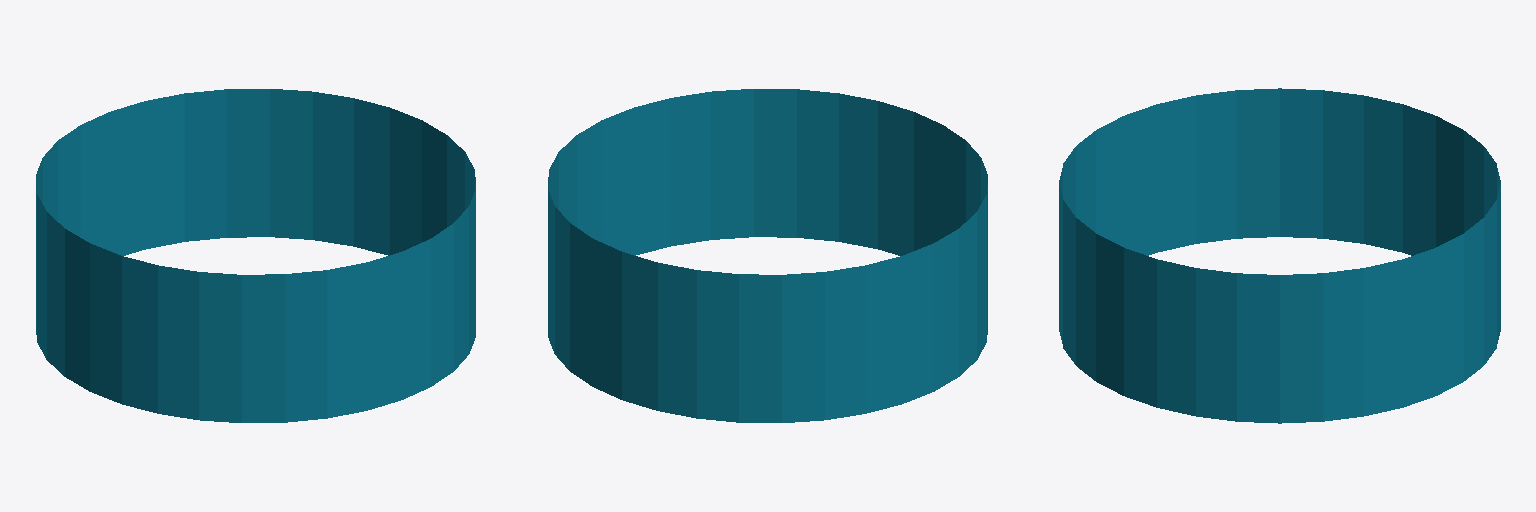
File: Ring_Export_OBJ.obj
The picture shows the model from 3 angles: view 1: azimuth 30°, elevation 25°; view 2: azimuth 150°, elevation 25°; view 3: azimuth 270°, elevation 25°; orthographic projection.
Parts seen in each view (by area): view 1: GUI_Ring; view 2: GUI_Ring; view 3: GUI_Ring.
Boxes of the visible parts, box(x1,y1,x2,y2) form: GUI_Ring: box(36, 89, 475, 422); GUI_Ring: box(548, 89, 987, 422); GUI_Ring: box(1059, 88, 1500, 423).
Bounding box in the file's own units: 369 × 137 × 369.